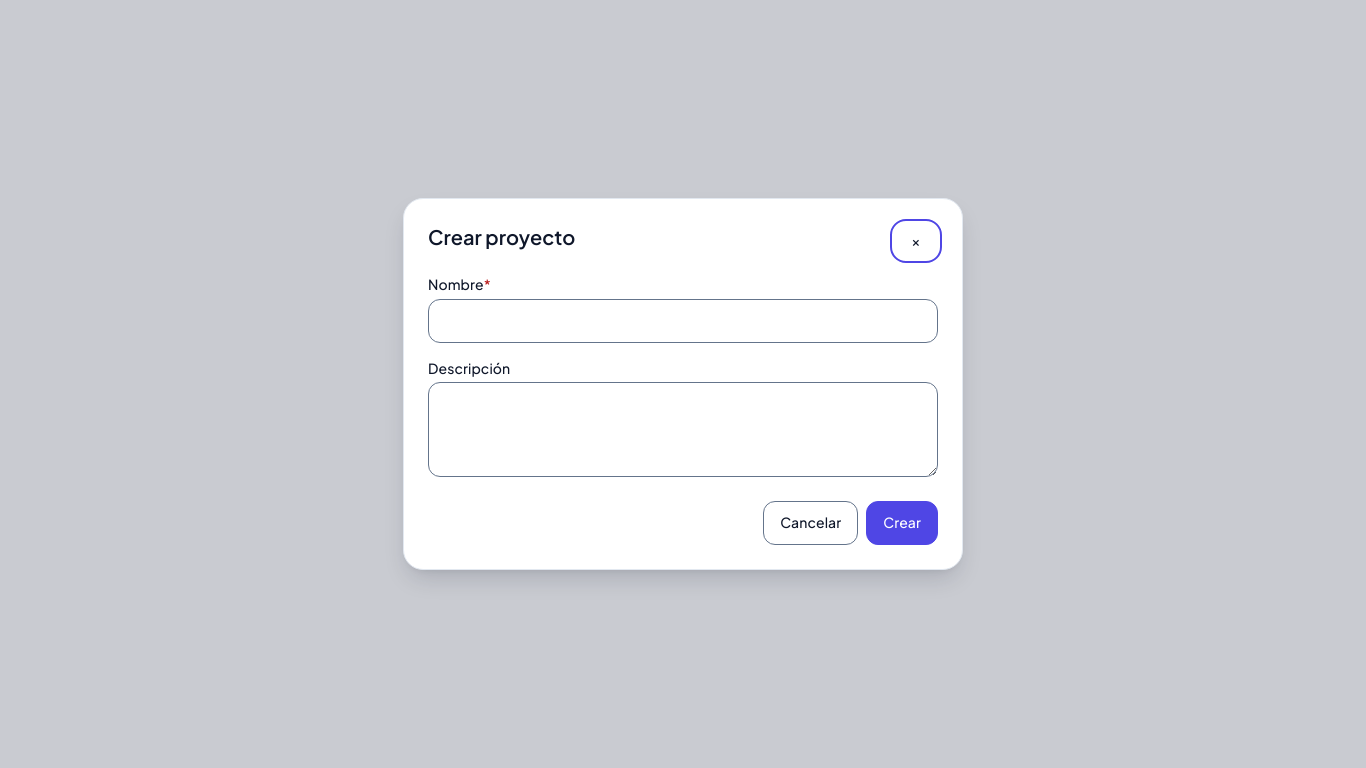
Test: CreateProjectDialog › con nombre vacío muestra el error junto al campo y no crea
Click the button "Crear" at (902, 523), box left=866, top=501, right=938, bottom=545
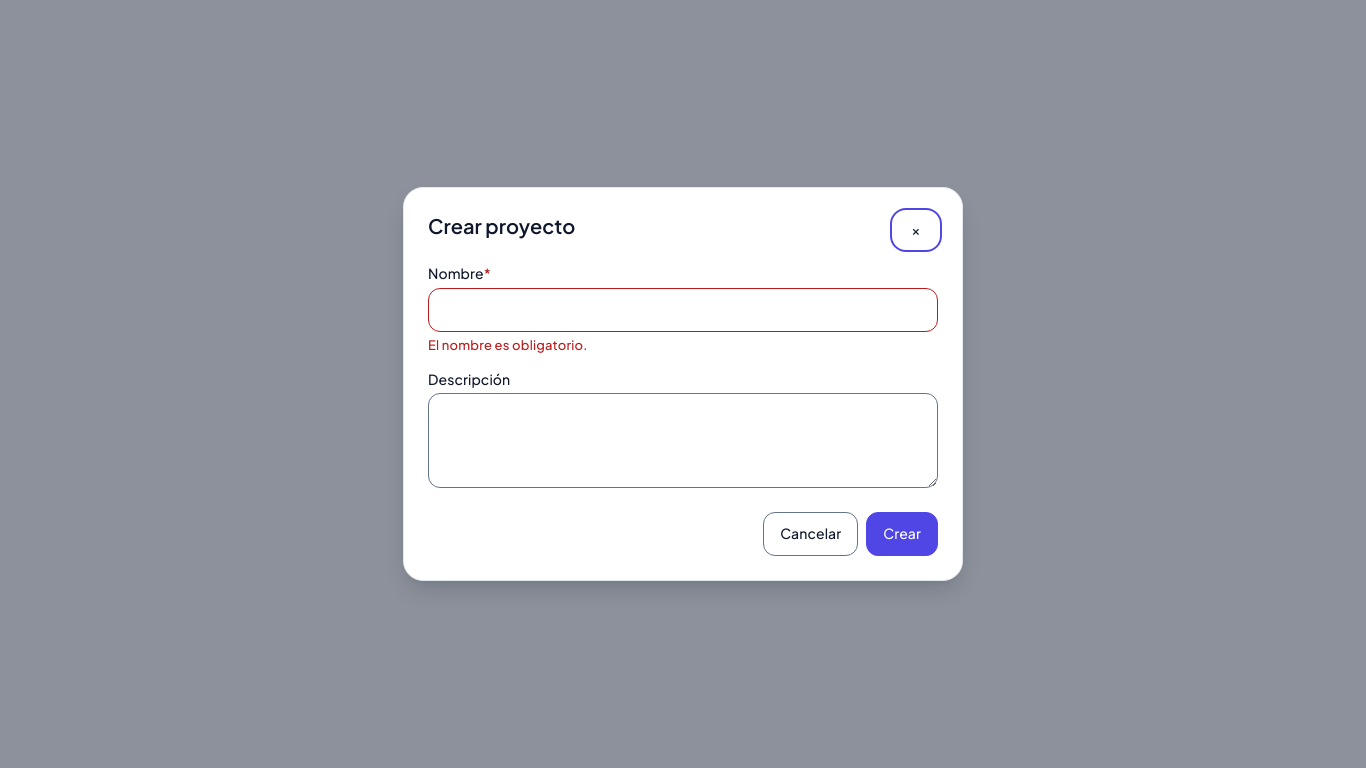
Result: the text "El nombre es obligatorio." is shown at left=428, top=336, right=588, bottom=352
